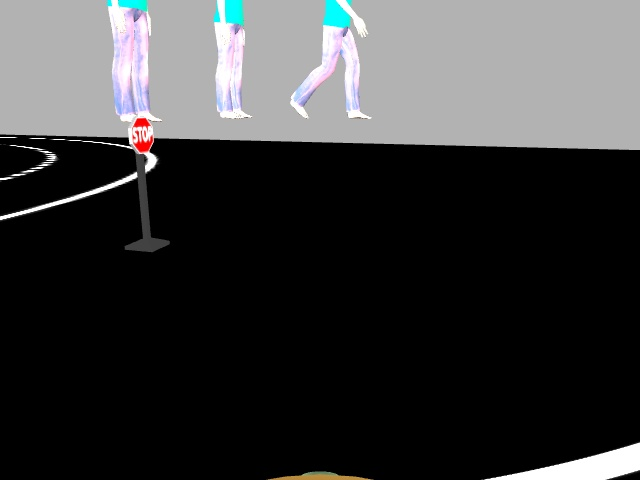Stop: (122, 113, 157, 155)
